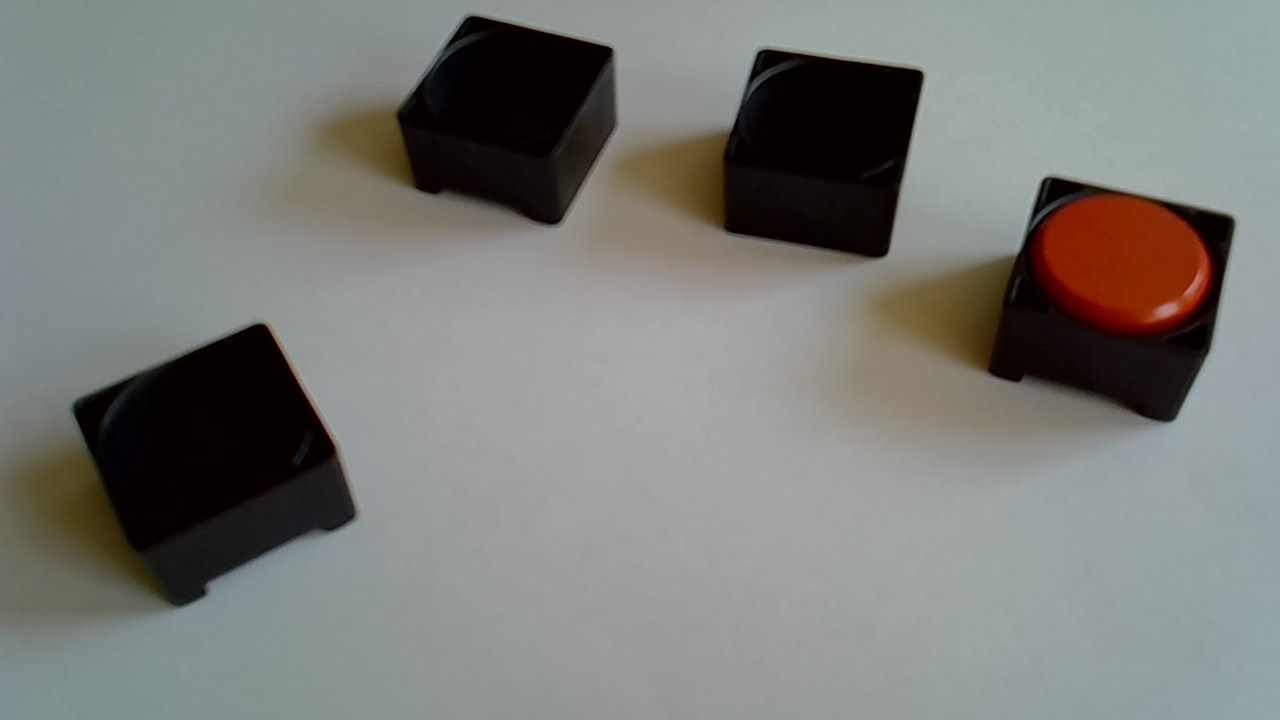Behaelter: (73, 322, 359, 610), (986, 174, 1238, 425), (392, 14, 620, 227), (719, 43, 929, 267)
WerkStueck: (1035, 193, 1214, 333)
